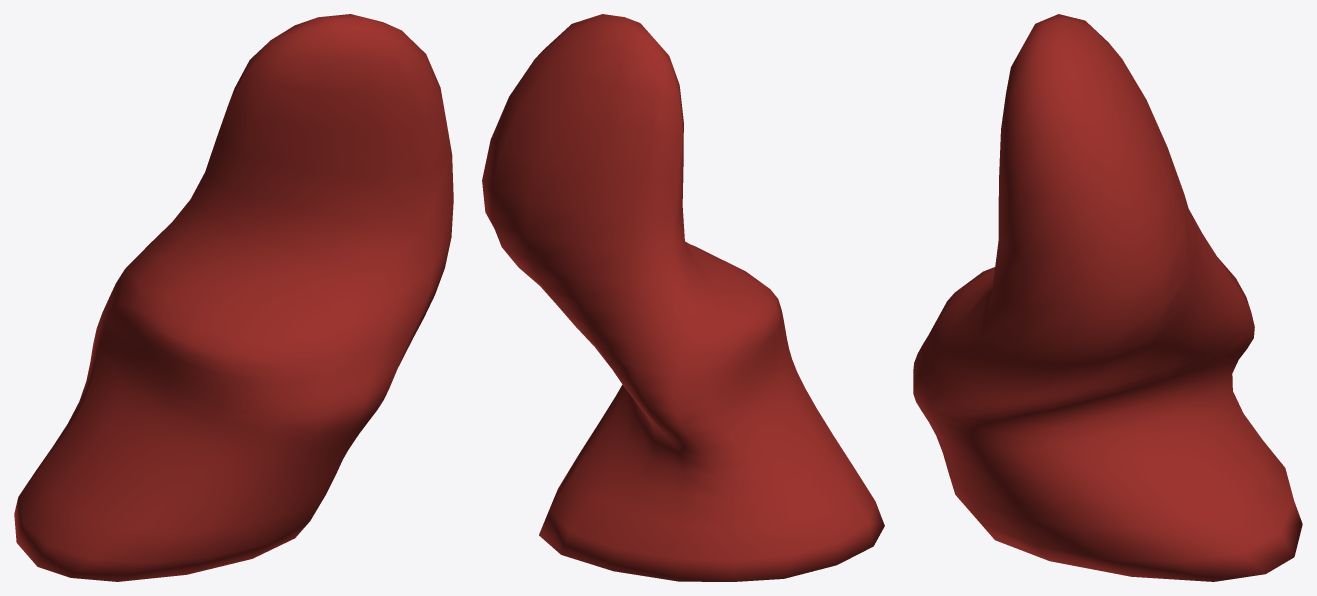
The model's file is Organic_Blob_009.fbx.
The picture shows the model from 3 angles, left to right: view 1: azimuth 30°, elevation 25°; view 2: azimuth 150°, elevation 25°; view 3: azimuth 270°, elevation 25°; orthographic projection. The views are drawn at different scales.
Parts seen in each view (by area): view 1: Cube.002; view 2: Cube.002; view 3: Cube.002.
Boxes of the visible parts, x1,y1,x2,y2 form: Cube.002: [14, 14, 453, 581]; Cube.002: [482, 14, 884, 581]; Cube.002: [913, 14, 1302, 581].
Bounding box in the file's own units: 623 × 725 × 453.
